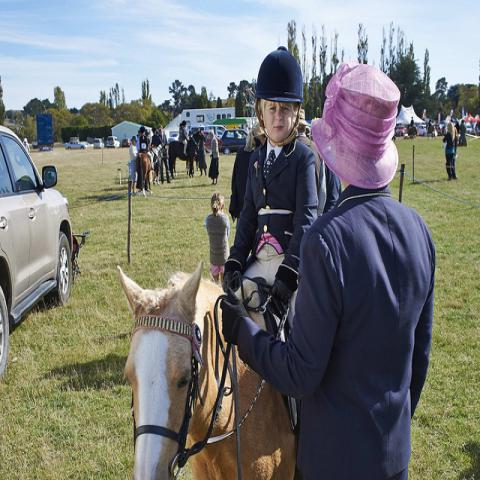car: (0, 126, 74, 379), (220, 128, 248, 154), (202, 131, 222, 151), (206, 125, 227, 138), (65, 140, 86, 150), (106, 136, 120, 149), (418, 124, 428, 138), (168, 132, 179, 144), (93, 138, 105, 148), (434, 124, 446, 134), (122, 138, 132, 147)
truck: (164, 107, 235, 145), (36, 113, 54, 151)
